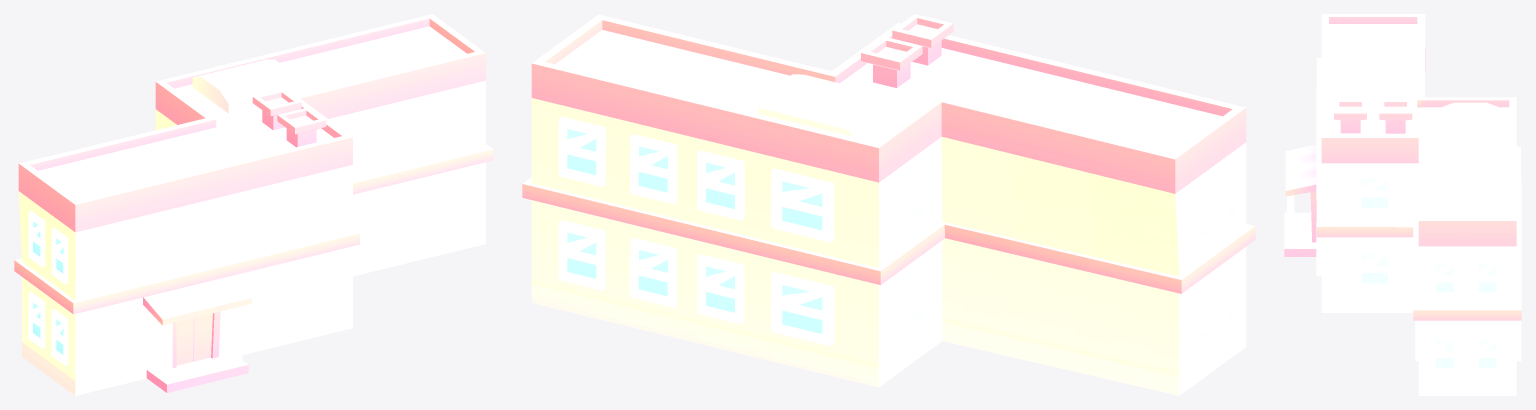
File: houseZ.glb
3 views of the same model, side by side, from view 1: azimuth 30°, elevation 25°; view 2: azimuth 150°, elevation 25°; view 3: azimuth 270°, elevation 25° (orthographic). The views are drawn at different scales.
Visible parts, largest first — view 1: house_z; view 2: house_z; view 3: house_z.
Boxes of the visible parts, x1,y1,x2,y2 form: house_z: (14,14,493,395); house_z: (522,14,1255,395); house_z: (1284,14,1521,395).
Size of the model in its own units: 10.43 by 4.36 by 4.92.
